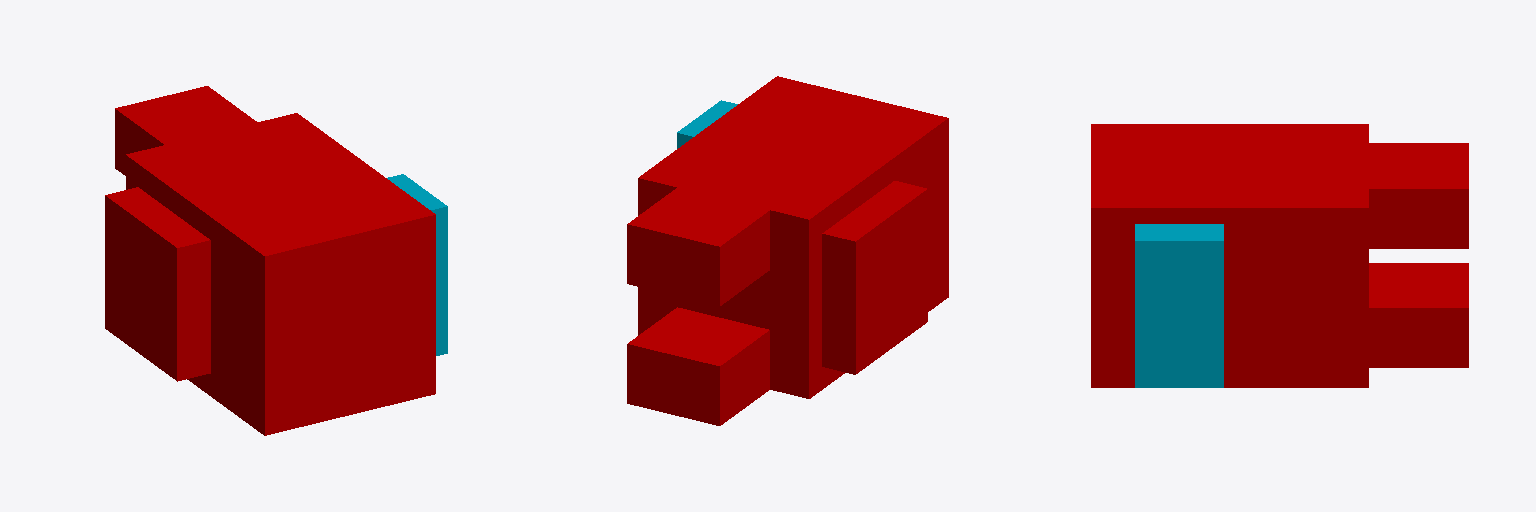
Rendered from amogusobj.obj.
3 renders of one model, left to right at view 1: azimuth 30°, elevation 25°; view 2: azimuth 150°, elevation 25°; view 3: azimuth 270°, elevation 25°, orthographic.
Parts seen in each view (by area): view 1: Cube; view 2: Cube; view 3: Cube.
Part boxes in pixels (x1,y1,x2,y2): Cube: (105,86,447,435); Cube: (627,76,948,425); Cube: (1091,124,1468,387).
Bounding box in the file's own units: 1.26 × 0.9079 × 1.73.